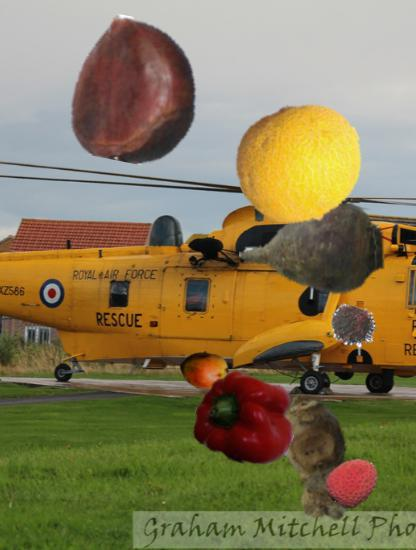Beetroot: (239, 174, 387, 322)
Cantaloupe: (236, 100, 366, 230)
Chestnut: (65, 19, 209, 163)
Ginger: (250, 389, 387, 526)
Lychee: (326, 455, 380, 509)
Papaya: (179, 345, 230, 396)
Pepper: (195, 368, 297, 470)
Rambutan: (329, 300, 382, 353)
